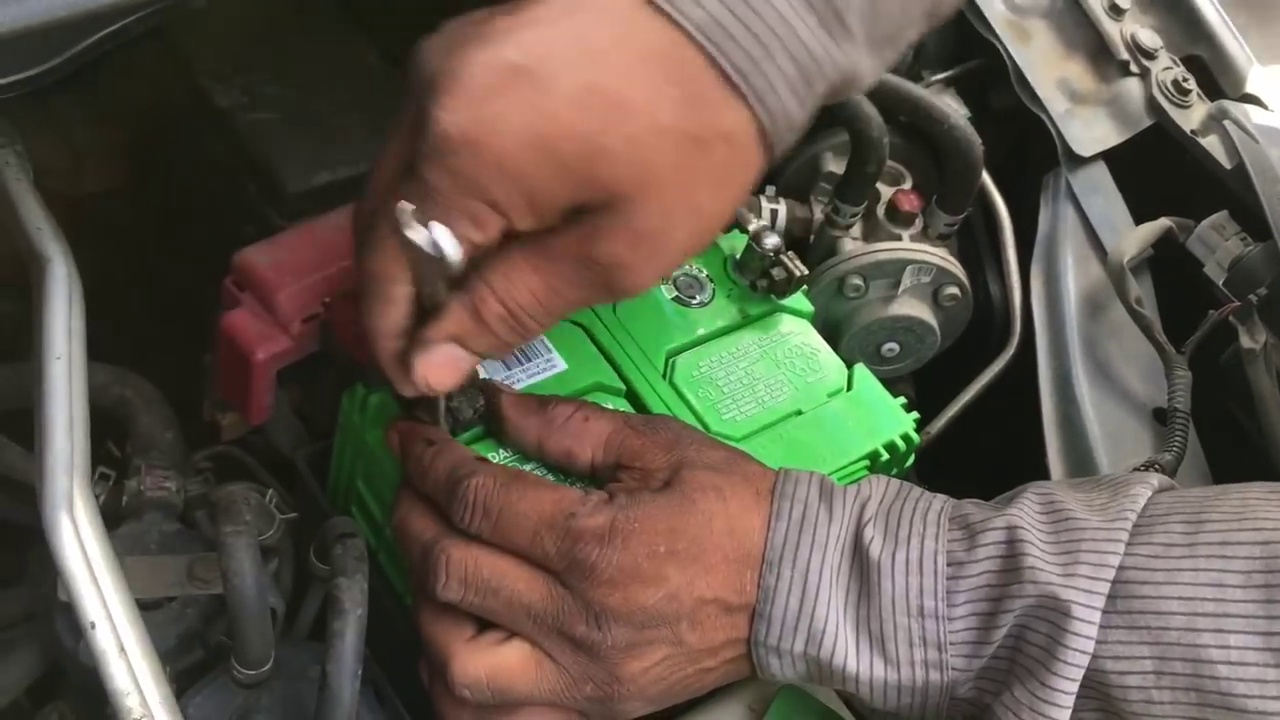battery: (361, 292, 915, 530)
neg_connected: (725, 197, 822, 320)
pos_touched: (233, 192, 501, 457)
